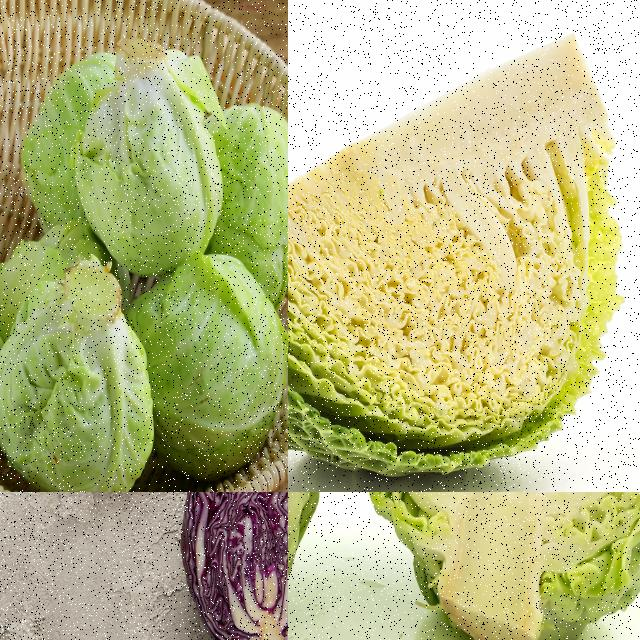cabbage: (288, 25, 632, 489), (345, 492, 639, 639), (0, 254, 157, 491), (136, 249, 287, 486), (80, 45, 222, 280), (21, 54, 128, 225), (200, 105, 287, 293), (181, 492, 287, 639), (288, 492, 382, 639)
